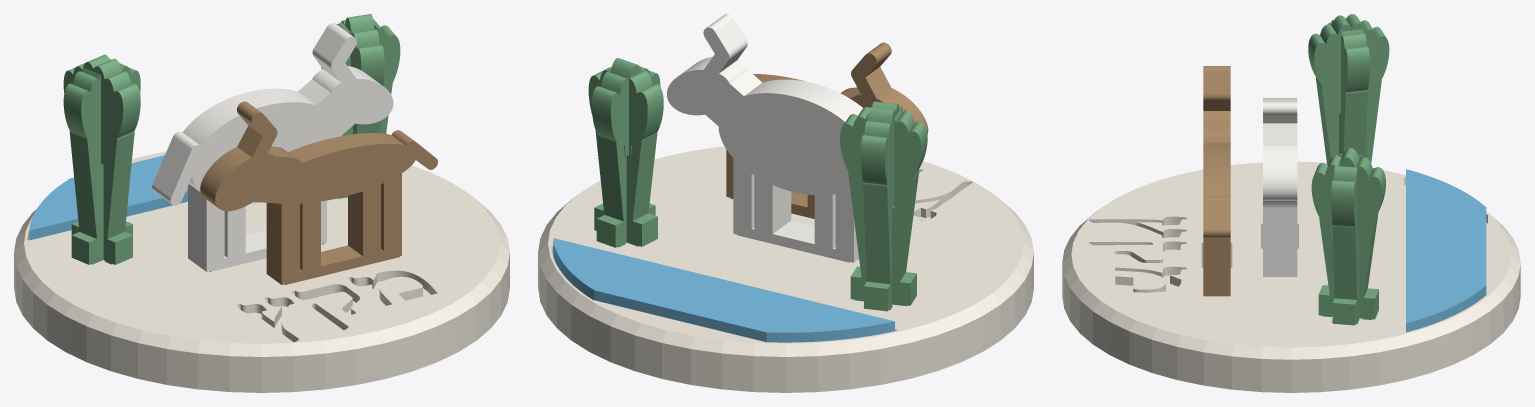
The model's file is miketz.glb.
3 views of the same model, side by side, from view 1: azimuth 30°, elevation 25°; view 2: azimuth 150°, elevation 25°; view 3: azimuth 270°, elevation 25° (orthographic). The views are drawn at different scales.
Visible parts, largest first — view 1: stage, lean-cow, fat-cow, reeds-b, reeds-a, nile, reeds2-b, reeds2-a; view 2: stage, fat-cow, nile, reeds-a, reeds-b, reeds2-b, reeds2-a, lean-cow; view 3: stage, nile, lean-cow, fat-cow, reeds2-b, reeds-b, reeds2-a, reeds-a.
Part boxes in pixels (<box>): stage: <box>14,151,509,392</box>; lean-cow: <box>200,101,437,284</box>; fat-cow: <box>152,23,393,271</box>; reeds-b: <box>63,54,140,264</box>; reeds-a: <box>63,59,140,264</box>; nile: <box>29,155,187,240</box>; reeds2-b: <box>337,14,384,134</box>; reeds2-a: <box>321,19,400,198</box>; stage: <box>538,146,1033,392</box>; fat-cow: <box>667,14,862,262</box>; nile: <box>553,238,894,342</box>; reeds-a: <box>840,107,927,306</box>; reeds-b: <box>861,101,905,311</box>; reeds2-b: <box>592,58,660,247</box>; reeds2-a: <box>588,67,663,246</box>; lean-cow: <box>726,42,928,218</box>; stage: <box>1062,161,1520,392</box>; nile: <box>1406,169,1486,332</box>; lean-cow: <box>1203,66,1230,296</box>; fat-cow: <box>1263,98,1297,276</box>; reeds2-b: <box>1311,148,1385,319</box>; reeds-b: <box>1308,14,1389,168</box>; reeds2-a: <box>1331,154,1363,325</box>; reeds-a: <box>1328,20,1369,157</box>.
Size of the model in its own units: 40 by 21.8 by 40.
